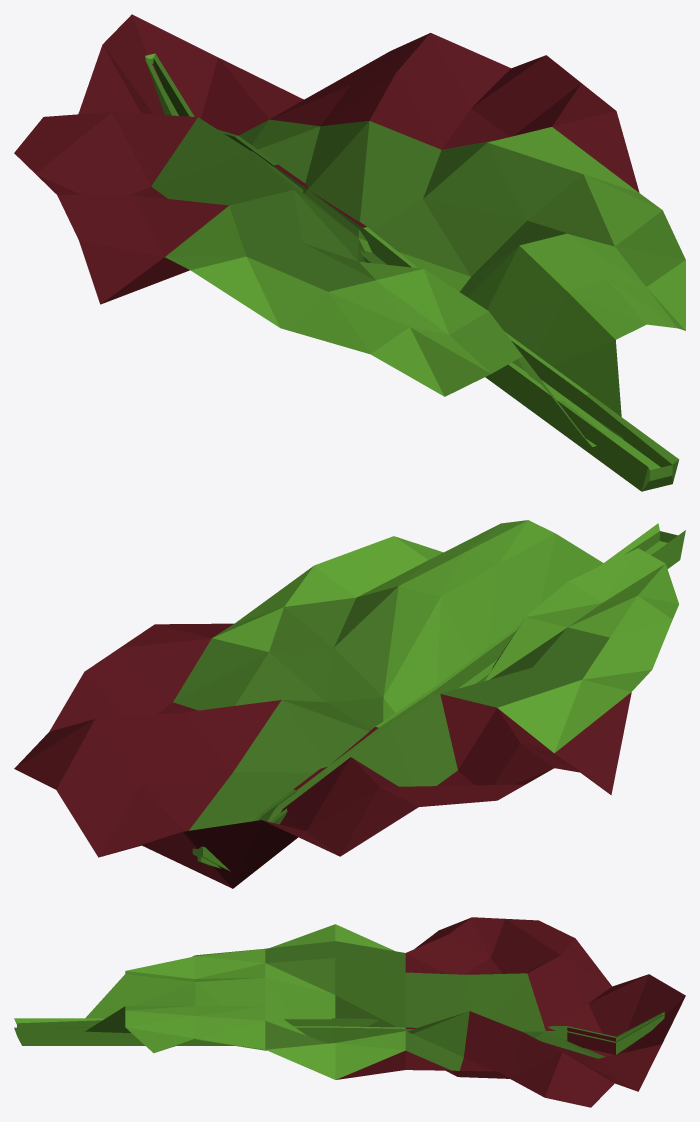
The model's file is sangchu.fbx.
The picture shows the model from 3 angles, top to bottom: view 1: azimuth 30°, elevation 25°; view 2: azimuth 150°, elevation 25°; view 3: azimuth 270°, elevation 25°; orthographic projection. The views are drawn at different scales.
Visible parts, largest first — view 1: sangchu; view 2: sangchu; view 3: sangchu.
Boxes of the visible parts, x1,y1,x2,y2 form: sangchu: (14, 14, 685, 491); sangchu: (14, 520, 685, 888); sangchu: (14, 917, 685, 1107).
Bounding box in the file's own units: 134 × 32.87 × 240.
